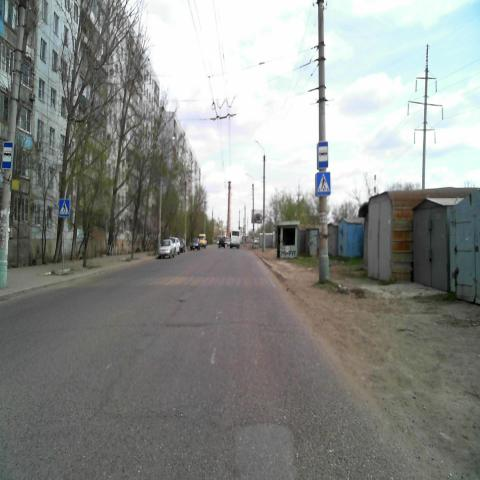5_16: (318, 140, 329, 170)
